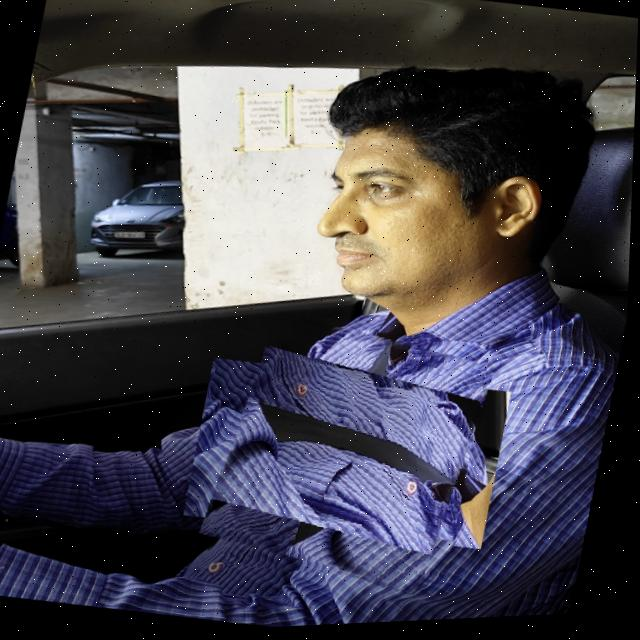seatbelt: (206, 311, 495, 602)
